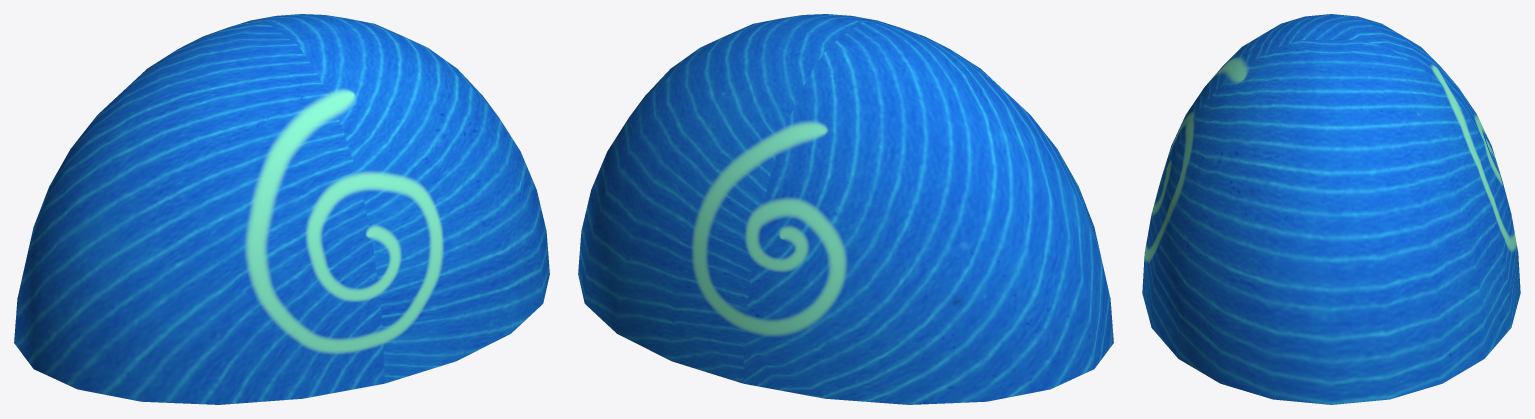
Rendered from Caparazon.glb.
3 views of the same model, side by side, from view 1: azimuth 30°, elevation 25°; view 2: azimuth 150°, elevation 25°; view 3: azimuth 270°, elevation 25° (orthographic). The views are drawn at different scales.
Parts seen in each view (by area): view 1: Caparazon; view 2: Caparazon; view 3: Caparazon.
Part boxes in pixels (x1,y1,x2,y2): Caparazon: (14, 14, 549, 404); Caparazon: (578, 14, 1113, 404); Caparazon: (1142, 14, 1520, 404).
Bounding box in the file's own units: 0.0187 × 0.00988 × 0.0134.
1 material, 1 textured.
